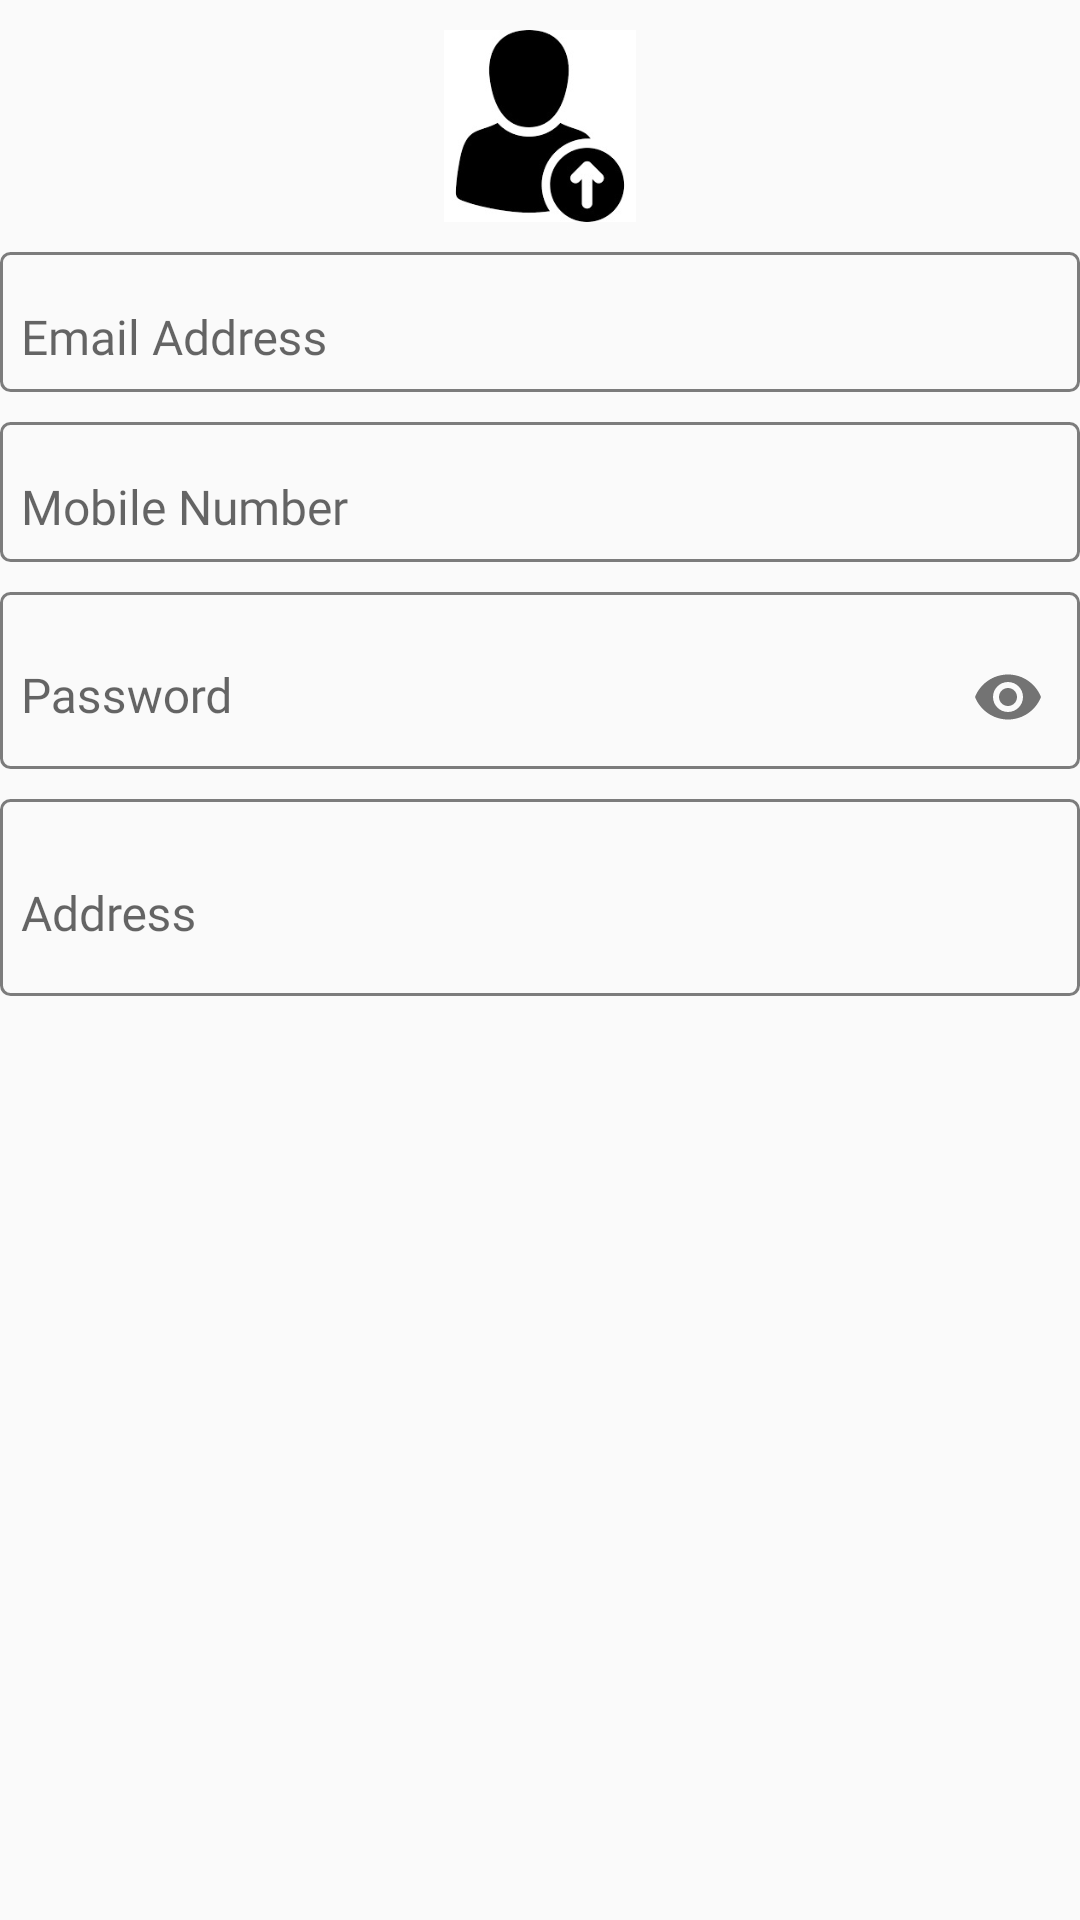

Locate icon controls on the screen. Image size 1080x1920, boxes as {"x1": x1, "y1": y1, "x2": x2, "y2": y2}.
upload picture: {"x1": 456, "y1": 30, "x2": 624, "y2": 222}
